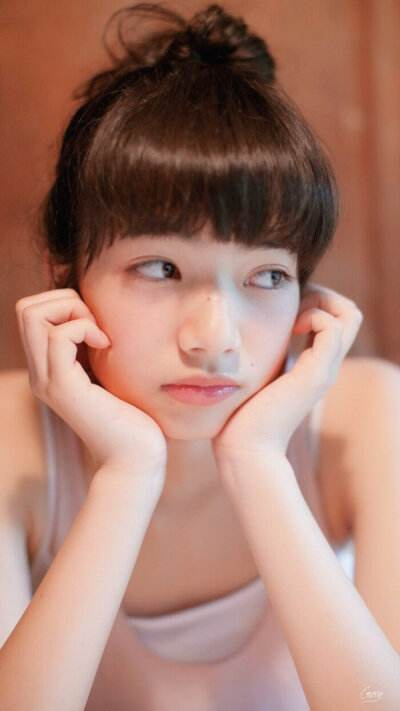person: (18, 52, 347, 711)
